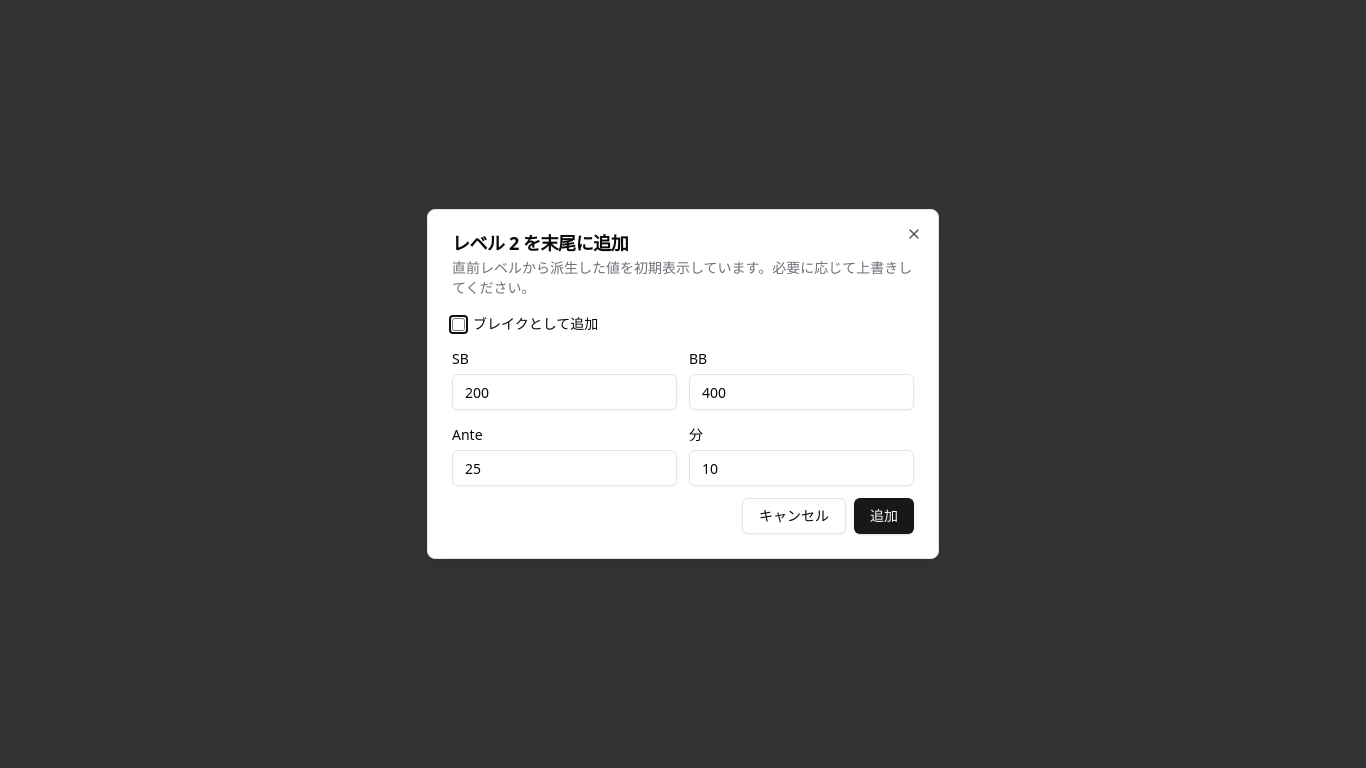
Scenario: AppendLevelDialog › disables SB/BB/Ante inputs and zeroes them when isBreak is checked
Click the checkbox labelled "ブレイクとして追加" at (458, 324), box [452,318,465,330]
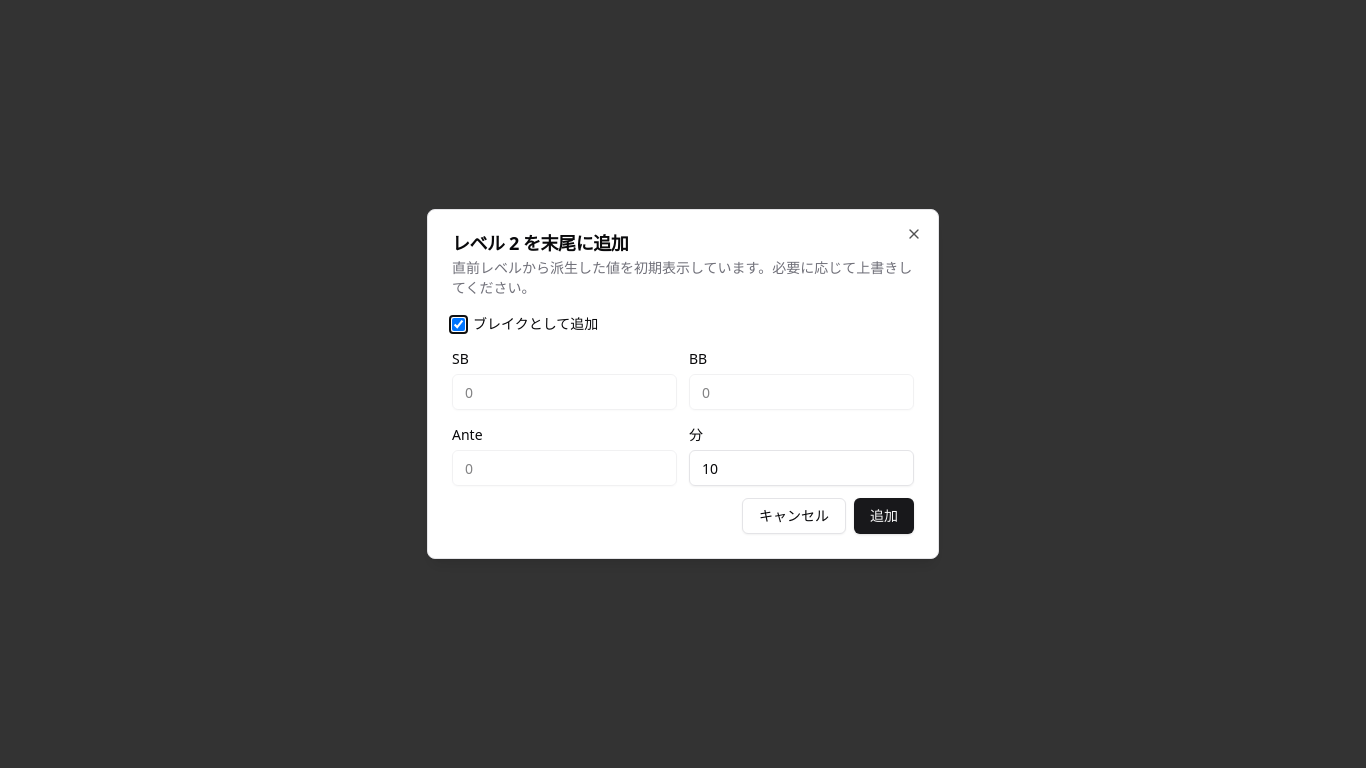
Expected: the number field labelled "SB" is disabled, [452,374,677,410]
Expected: the number field labelled "BB" is disabled, [689,374,914,410]
Expected: the number field labelled "Ante" is disabled, [452,450,677,486]
